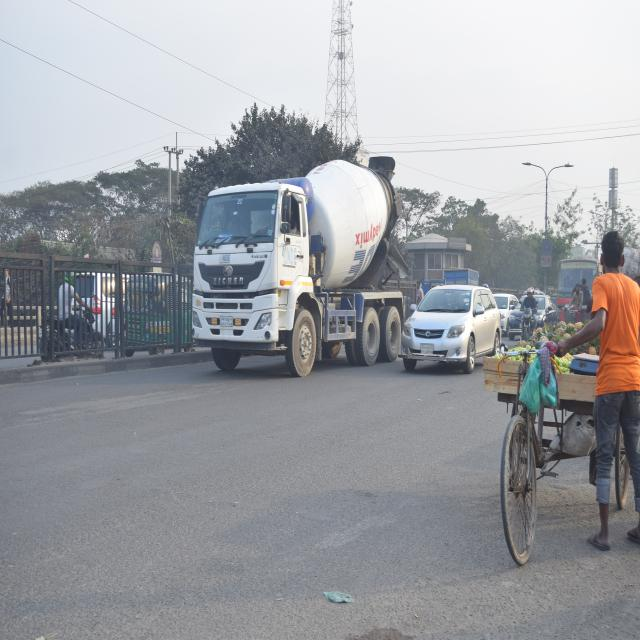bus: (551, 245, 598, 318)
car: (399, 276, 500, 379), (499, 290, 515, 327)
motorbike: (40, 292, 107, 364)
truck: (191, 173, 398, 372)
